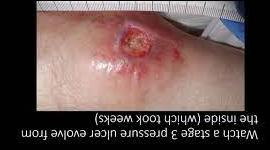Stage3: (107, 23, 158, 63)
